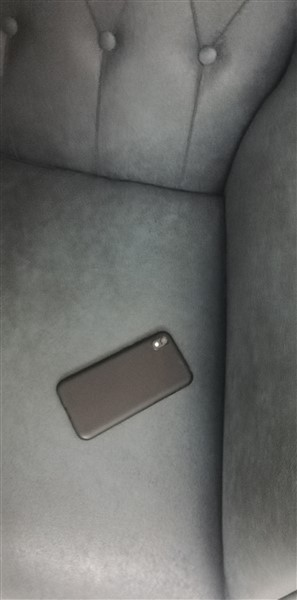telefon: (49, 324, 200, 450)
